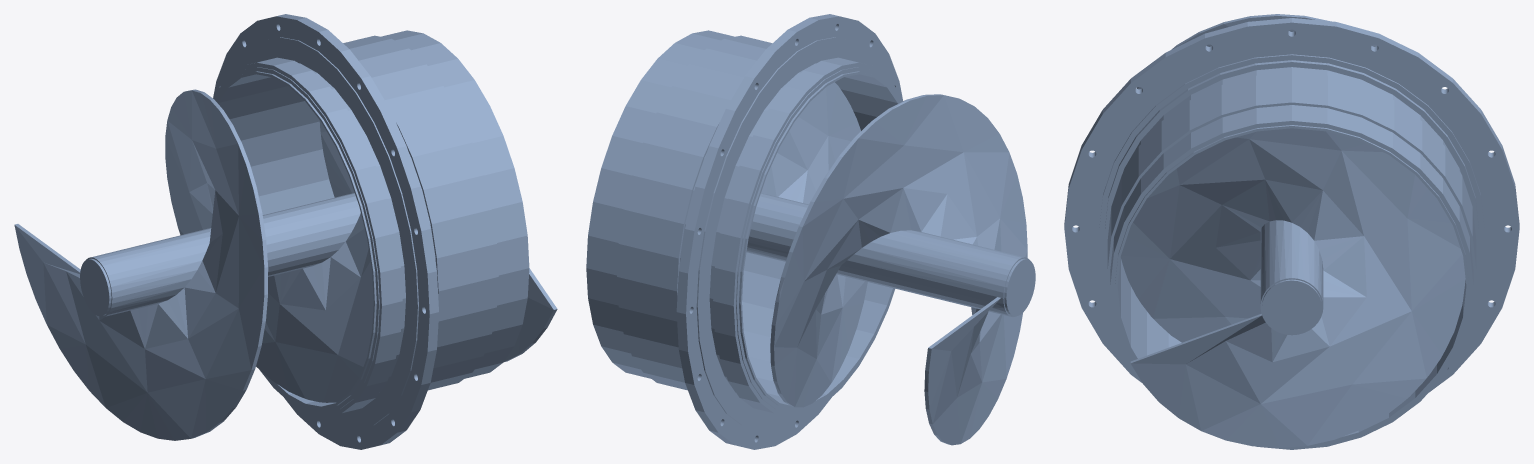
Rendered from screw_feeder.glb.
3 views of the same model, side by side, from view 1: azimuth 30°, elevation 25°; view 2: azimuth 150°, elevation 25°; view 3: azimuth 270°, elevation 25° (orthographic). The views are drawn at different scales.
Parts seen in each view (by area): view 1: part_5, part_4, part_2, part_0, part_1, part_3, part_6; view 2: part_5, part_4, part_2, part_0, part_3, part_1, part_6; view 3: part_5, part_2, part_4, part_0, part_1, part_7.
Boxes of the visible parts, x1=… form: part_5: x1=14, y1=89, x2=557, y2=440; part_4: x1=343, y1=35, x2=498, y2=390; part_2: x1=213, y1=14, x2=438, y2=449; part_0: x1=215, y1=30, x2=529, y2=412; part_1: x1=216, y1=71, x2=376, y2=408; part_3: x1=214, y1=57, x2=402, y2=416; part_6: x1=80, y1=258, x2=111, y2=316; part_5: x1=746, y1=82, x2=1029, y2=445; part_4: x1=617, y1=35, x2=772, y2=390; part_2: x1=676, y1=14, x2=902, y2=449; part_0: x1=586, y1=30, x2=900, y2=412; part_3: x1=713, y1=57, x2=902, y2=416; part_1: x1=739, y1=71, x2=899, y2=408; part_6: x1=1004, y1=258, x2=1035, y2=316; part_5: x1=1120, y1=14, x2=1465, y2=447; part_2: x1=1064, y1=18, x2=1519, y2=392; part_4: x1=1107, y1=72, x2=1476, y2=305; part_0: x1=1110, y1=67, x2=1473, y2=449; part_1: x1=1115, y1=125, x2=1468, y2=444; part_7: x1=1262, y1=279, x2=1321, y2=334.
Bounding box in the file's own units: 2.4 × 2.36 × 2.36.
